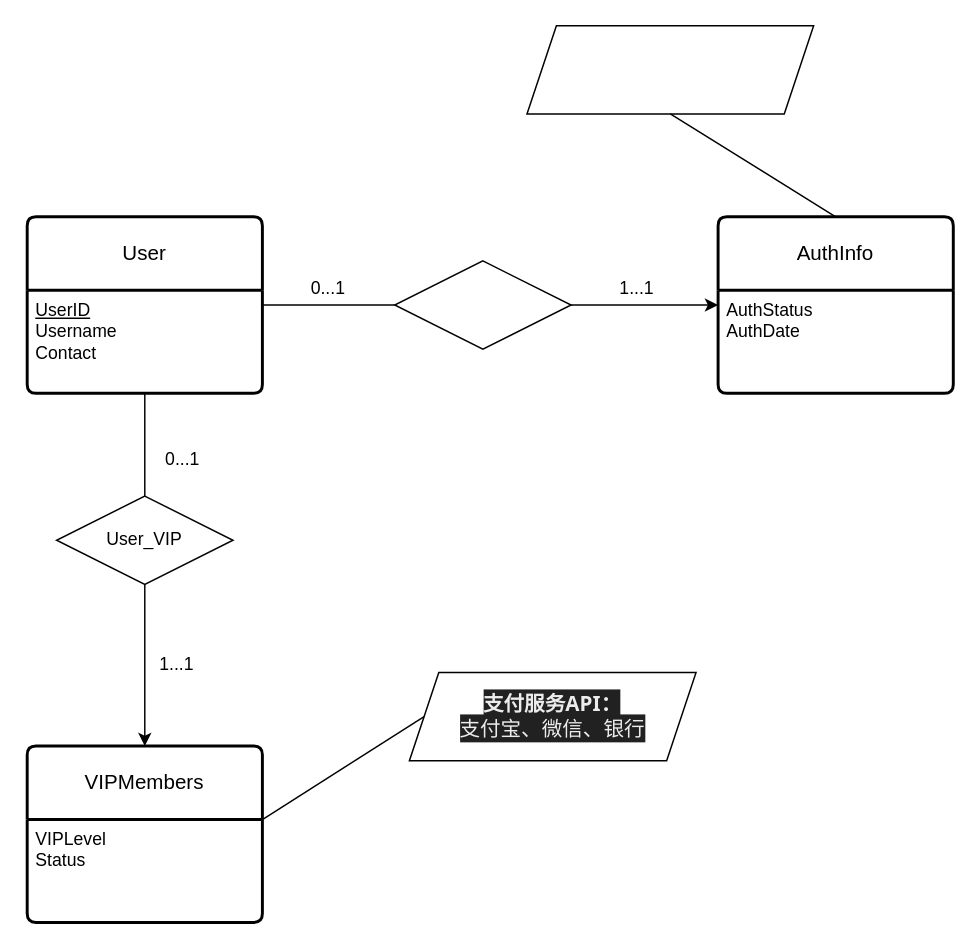
Some shapes in this 979 by 950 pixel diagram are drawn without their labels. Each missing label, with the centre of its shape:
"User_Auth" belongs at (482,304).
"身份验证服务API ： 腾讯云、中国银联 （只计划实现效果 ）" belongs at (670,69).
